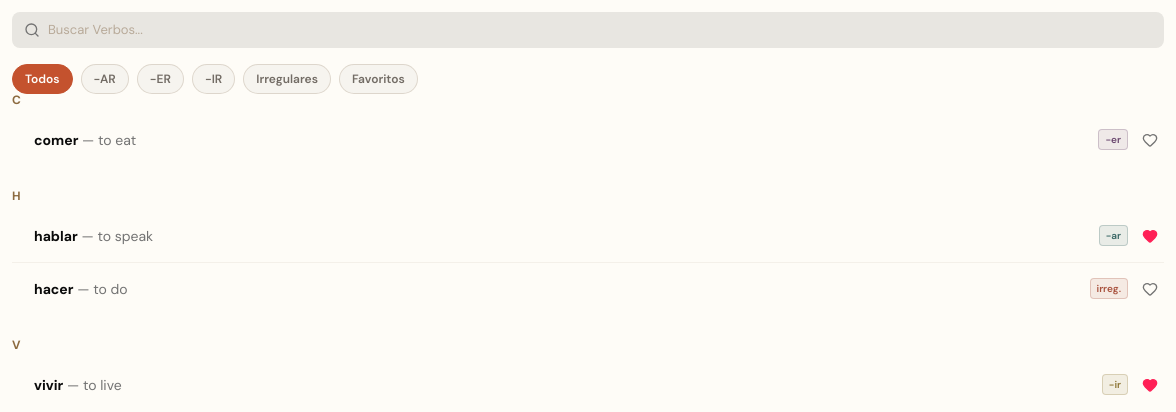
Test: VerbDirectory › shows empty state in Spanish when no matches
Type "zzzzz" into the search field with placeholder "Buscar Verbos...".
click(588, 30); type("zzzzz")  # box [12, 12, 1164, 48]
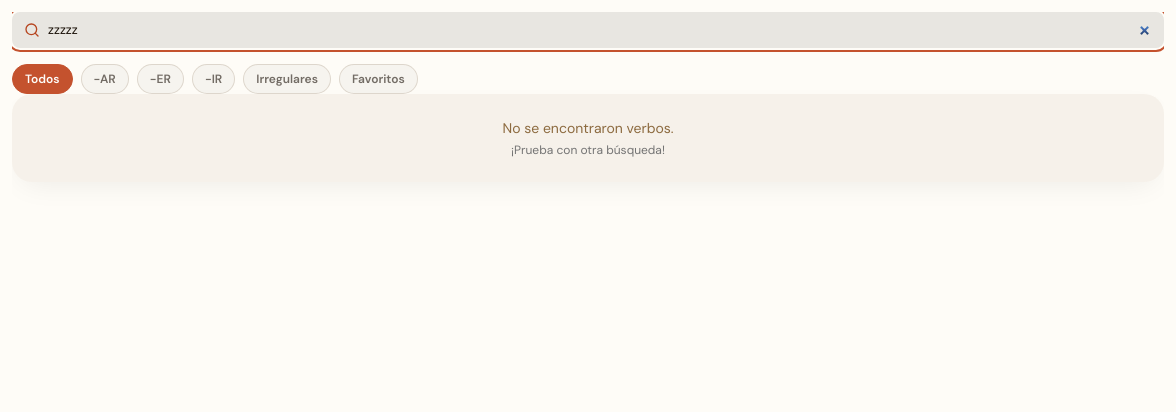
Now the text "No se encontraron verbos." is shown, box [502, 118, 674, 136]
Now the text "¡Prueba con otra búsqueda!" is shown, box [511, 142, 665, 158]
